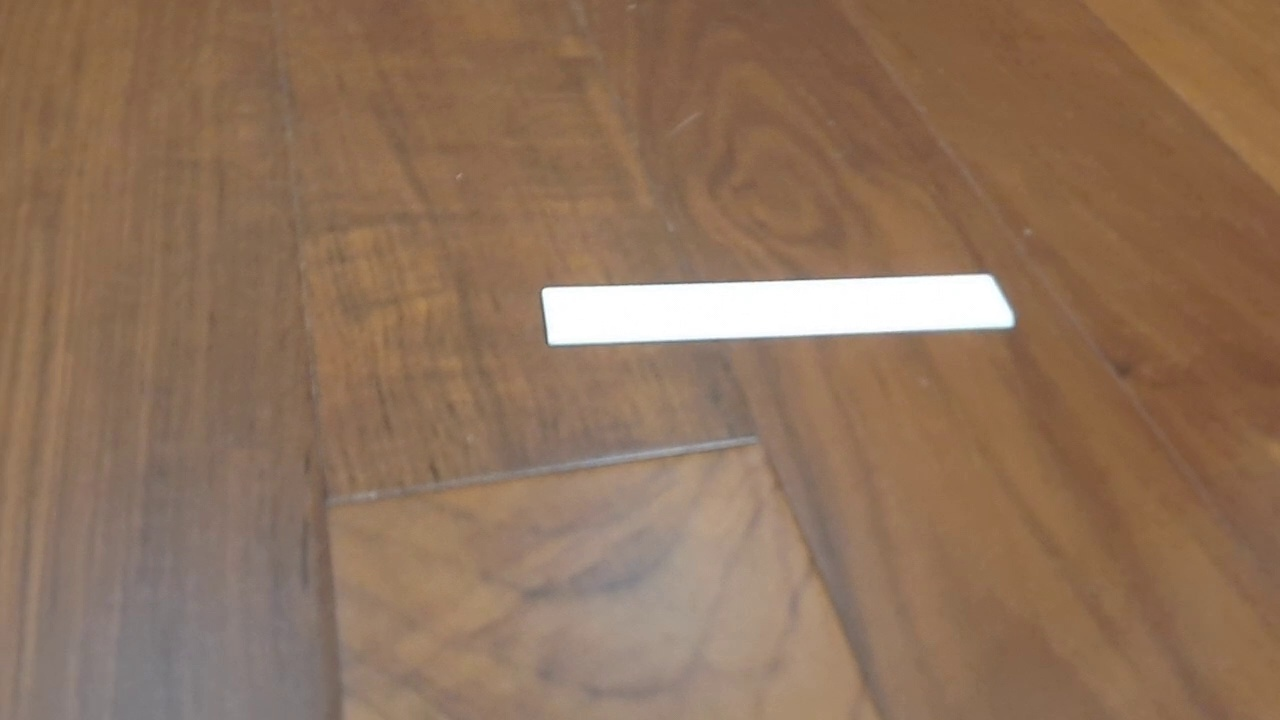ruler: (538, 270, 1017, 348)
